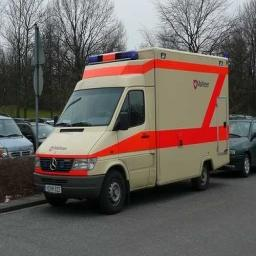Ambulance: (34, 48, 228, 213)
